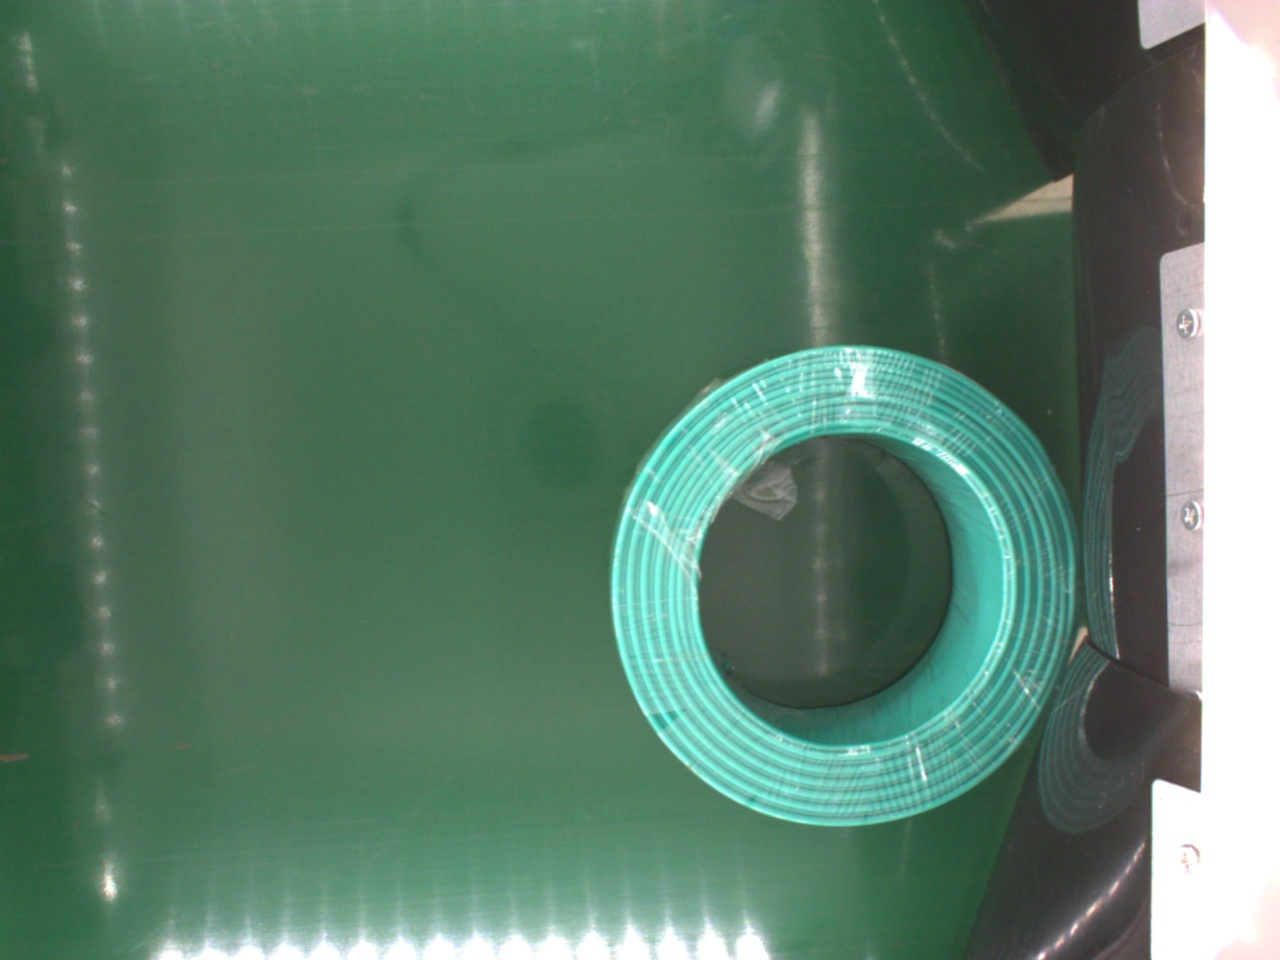green: (608, 346, 1078, 831)
